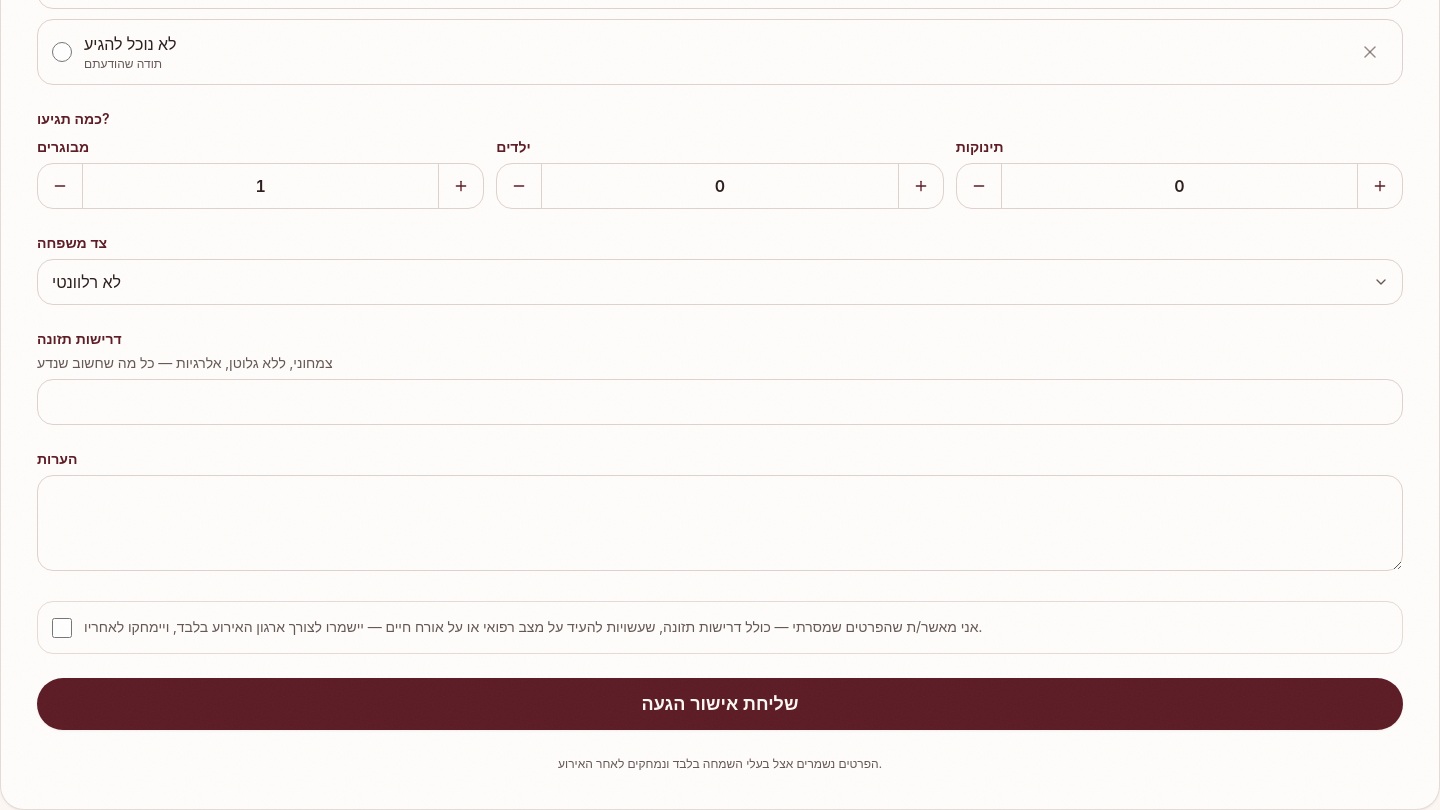
Scenario: RsvpForm › after a rejected submission › shows a form-level failure as an alert
(page scrolled)
Click the button "שליחת אישור הגעה" at (720, 704), box 37,678 -> 1403,730
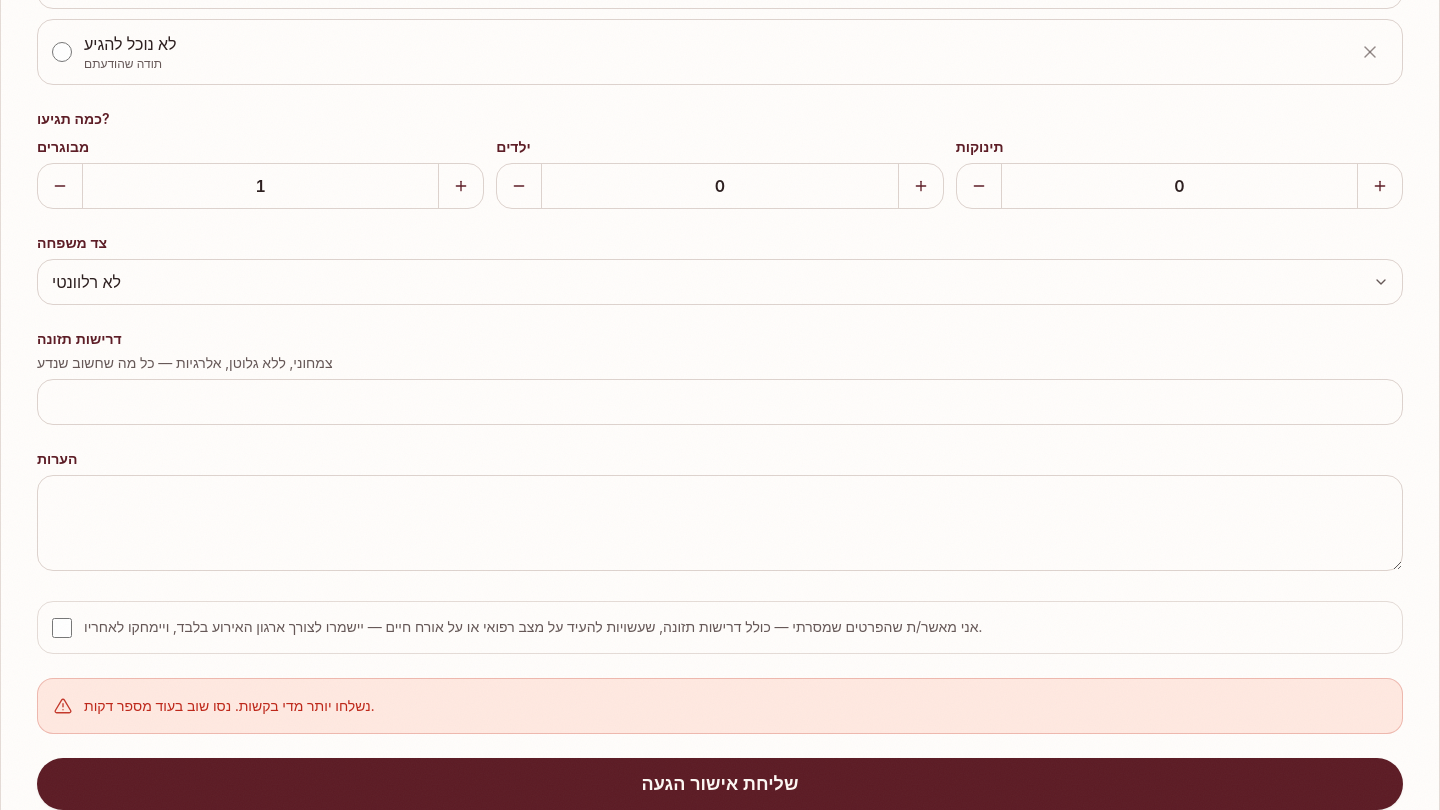
Result: the message shows "נשלחו יותר מדי בקשות" at 84,697 -> 374,714
